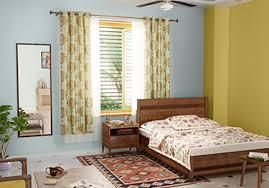bed: (135, 94, 269, 178)
chair: (0, 151, 33, 188)
fan: (135, 0, 201, 11)
table: (33, 162, 120, 188), (99, 124, 137, 155), (235, 154, 268, 188)
